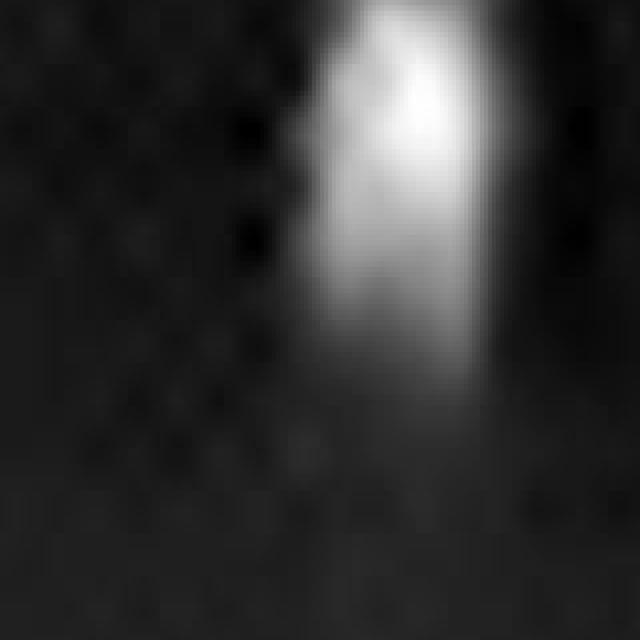person: (293, 1, 509, 412)
